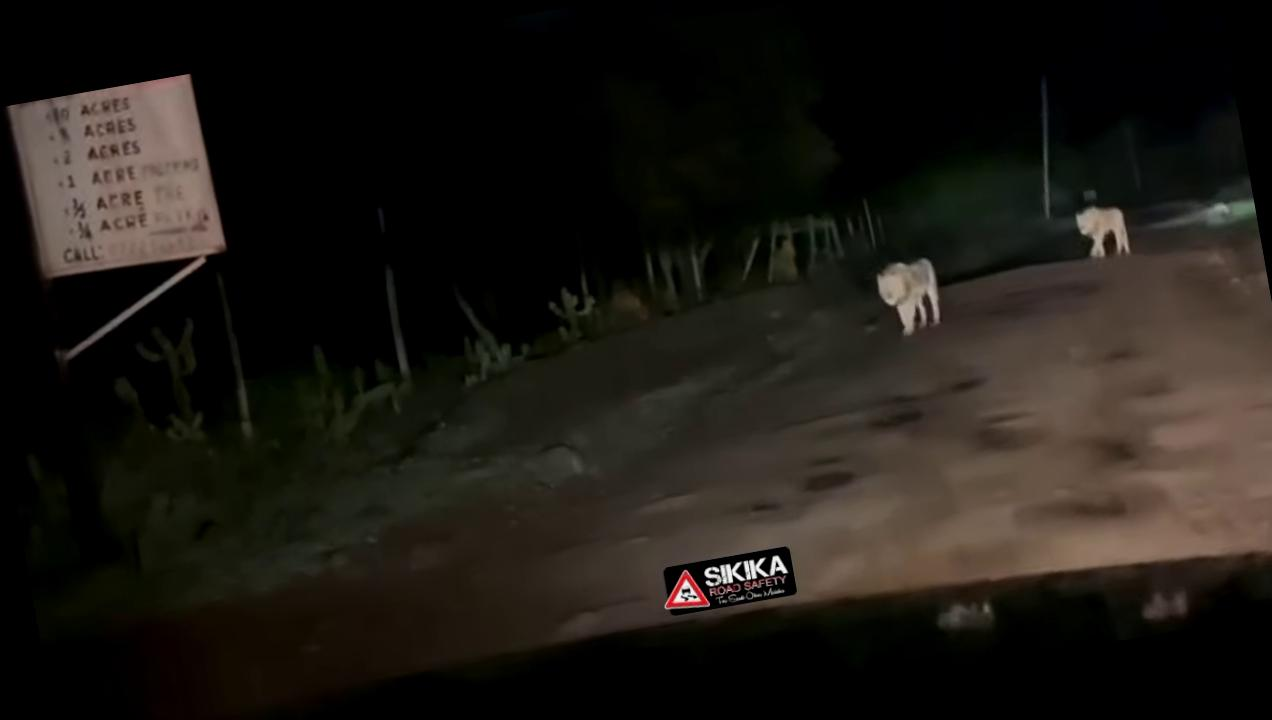lions: (862, 248, 960, 354), (1061, 178, 1144, 272)
